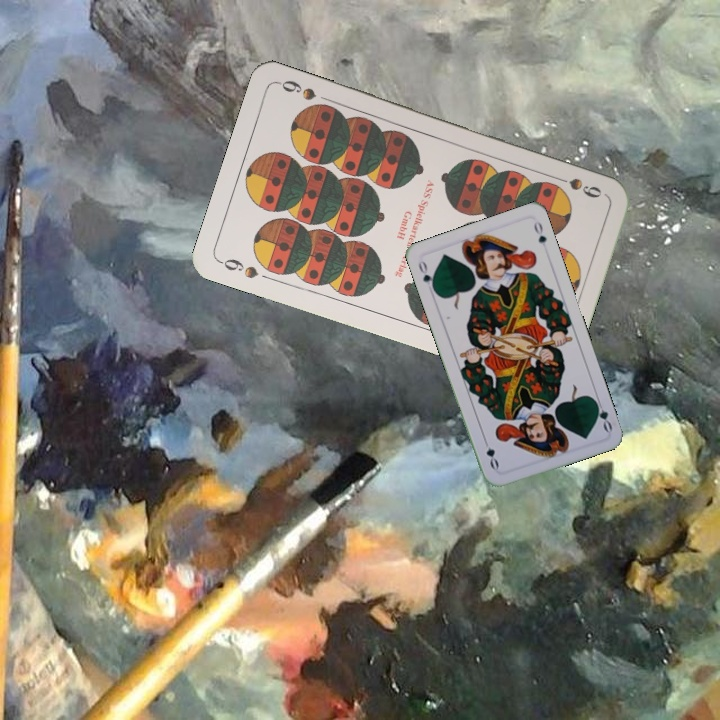GO: (590, 394, 615, 434), (414, 257, 438, 294)
S9: (549, 171, 605, 201), (215, 254, 261, 281)
